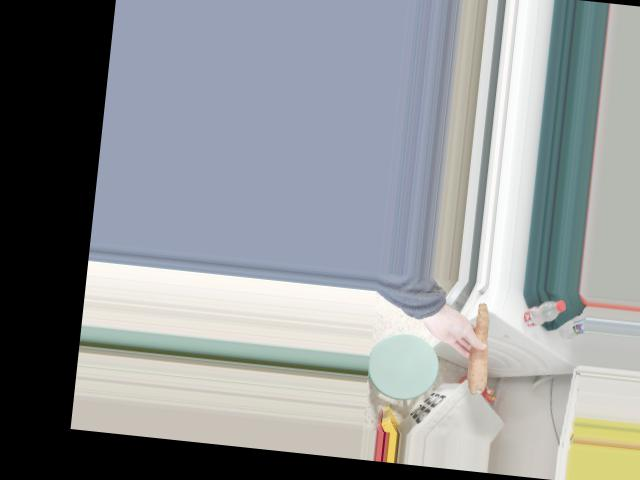sweet_potato: (458, 300, 496, 393)
